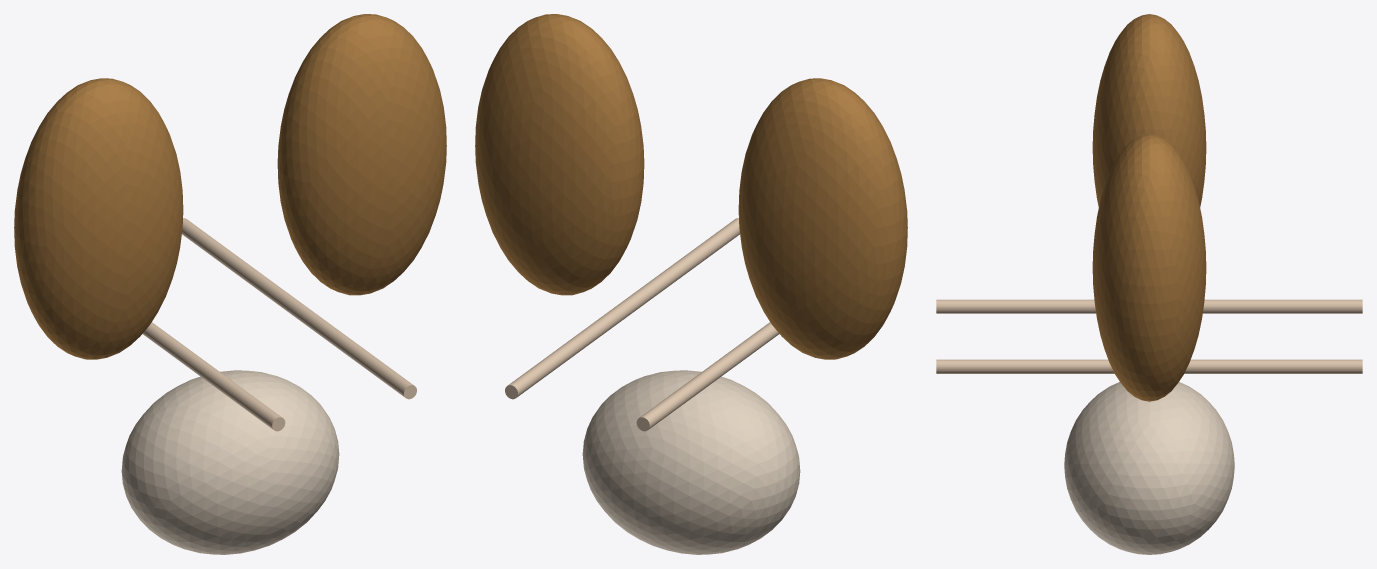
Rendered from excretory_system.glb.
3 views of the same model, side by side, from view 1: azimuth 30°, elevation 25°; view 2: azimuth 150°, elevation 25°; view 3: azimuth 270°, elevation 25° (orthographic). The views are drawn at different scales.
Visible parts, largest first — view 1: world; view 2: world; view 3: world.
Part boxes in pixels (x1,y1,x2,y2): world: [14, 14, 446, 554]; world: [475, 14, 907, 554]; world: [936, 14, 1362, 554].
Size of the model in its own units: 6.4 by 7.2 by 6.
